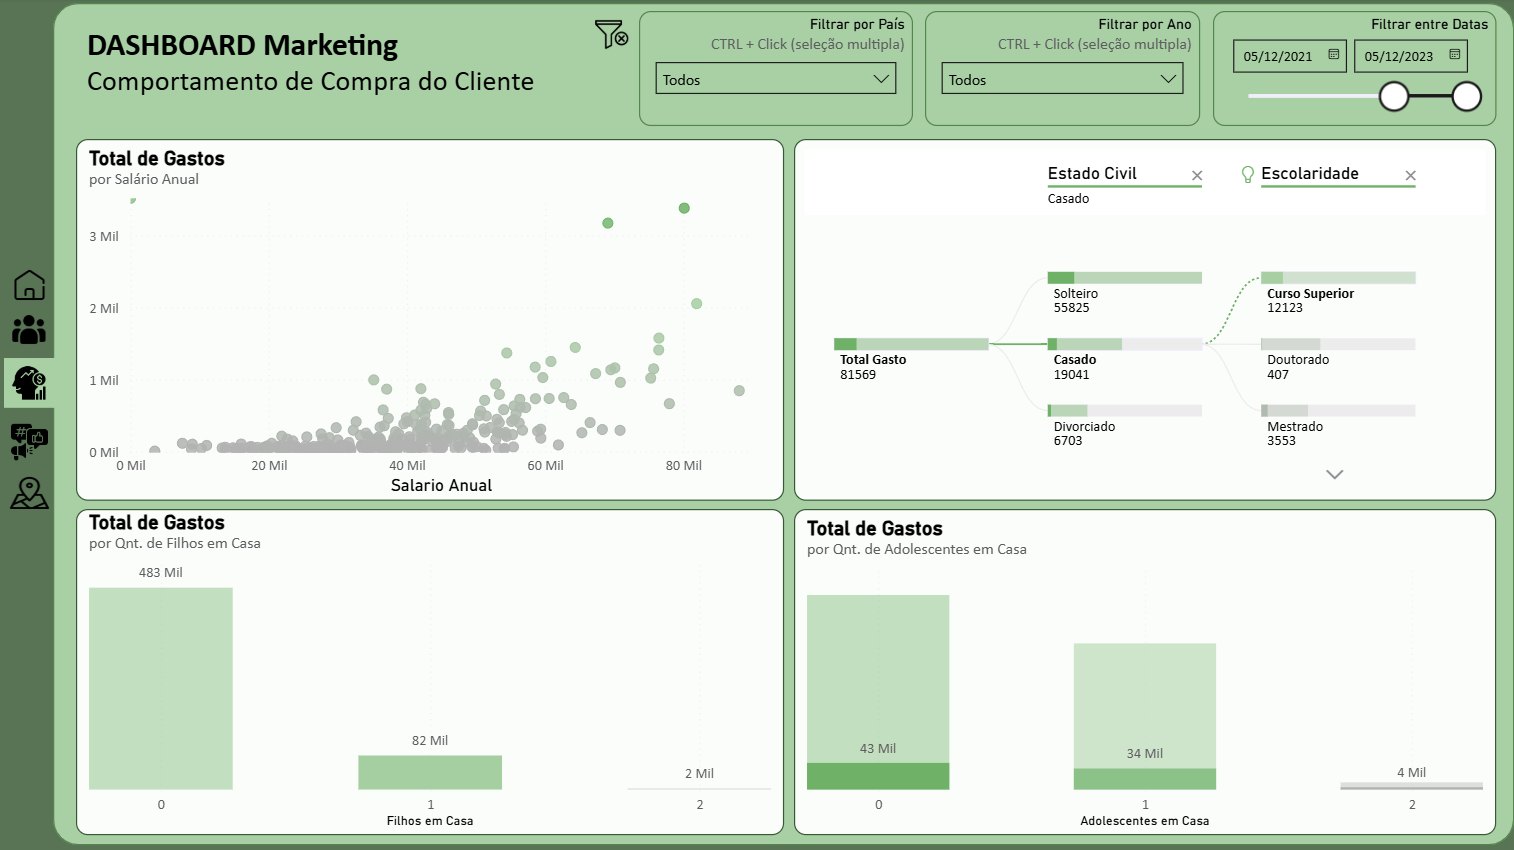

This screenshot's page, from the dashboard's own definition file:
{"tool":"powerbi","page":{"name":"Visão Comportamento","canvas":[1280,720],"ordinal":2},"visuals":[{"type":"group","id":"g1","title":"Grupo 1","box":[48.2,4.5,1231.8,710],"z":0},{"type":"shape","box":[48.2,4.5,1231.8,710],"z":0,"group":"g1"},{"type":"textbox","box":[71.7,17.6,390,73.6],"z":1000,"group":"g1"},{"type":"scatterChart","title":"Total de Gastos","fields":{"X":["Dados_Marketing.Salario Anual"],"Y":["Dados_Marketing.Total_Gasto"]},"box":[67.3,119.1,597.3,305.5],"z":1000},{"type":"slicer","title":"Filtrar por Ano","fields":{"Values":["Dados_Marketing.Data Cadastro.Variation.Hierarquia de datas.Ano"]},"box":[783.7,10.9,231.8,97.3],"z":2000,"group":"g1"},{"type":"clusteredColumnChart","title":"Total de Gastos","fields":{"Category":["Dados_Marketing.Filhos em Casa"],"Y":["Dados_Marketing.Total_Gasto"]},"box":[67.3,430.9,597.3,274.5],"z":2000},{"type":"slicer","title":"Filtrar por País","fields":{"Values":["Dados_Marketing.Pais"]},"box":[541.8,10.9,230.9,97.3],"z":3000,"group":"g1"},{"type":"image","box":[7,398.9,42.7,37.3],"z":3000,"group":"g3"},{"type":"clusteredColumnChart","title":"Total de Gastos","fields":{"Y":["Dados_Marketing.Total_Gasto"],"Category":["Dados_Marketing.Adolescentes em Casa"]},"box":[672.7,430.9,591.8,274.5],"z":3000},{"type":"slicer","title":"Filtrar entre Datas","fields":{"Values":["Dados_Marketing.Data Cadastro"]},"box":[1026.4,10.9,239.1,97.3],"z":4000,"group":"g1"},{"type":"decompositionTreeVisual","fields":{"Analyze":["Dados_Marketing.Total_Gasto"],"ExplainBy":["Dados_Marketing.Estado Civil","Dados_Marketing.Escolaridade"]},"box":[672.7,119.1,591.8,305.5],"z":4000},{"type":"image","box":[7,260.7,42.7,38.2],"z":4000,"group":"g3"},{"type":"group","id":"g2","title":"Grupo 5","box":[7,223.6,42.7,212.7],"z":5000},{"type":"group","id":"g3","title":"Grupo 2","box":[7,260.7,42.7,175.5],"z":5000,"group":"g2"},{"type":"image","box":[7,303.4,42.7,41.8],"z":5000,"group":"g3"},{"type":"image","box":[498.9,11.9,39.8,37.8],"z":6000},{"type":"image","box":[7,223.6,42.6,37.2],"z":6000,"group":"g2"},{"type":"image","box":[7,349.8,42.7,48.2],"z":6000,"group":"g3"}]}

Visuals, with their boxes in screenshot pixels (x1, y1, x2, y2):
"Grupo 1" group: pyautogui.locateOnScreen(52, 5, 1489, 833)
shape: pyautogui.locateOnScreen(52, 5, 1489, 833)
textbox: pyautogui.locateOnScreen(80, 21, 535, 106)
"Total de Gastos" scatterChart: pyautogui.locateOnScreen(75, 139, 771, 495)
"Filtrar por Ano" slicer: pyautogui.locateOnScreen(910, 13, 1181, 126)
"Total de Gastos" clusteredColumnChart: pyautogui.locateOnScreen(75, 503, 771, 823)
"Filtrar por País" slicer: pyautogui.locateOnScreen(628, 13, 897, 126)
image: pyautogui.locateOnScreen(4, 465, 54, 509)
"Total de Gastos" clusteredColumnChart: pyautogui.locateOnScreen(781, 503, 1471, 823)
"Filtrar entre Datas" slicer: pyautogui.locateOnScreen(1193, 13, 1472, 126)
decompositionTreeVisual - Dados_Marketing.Total_Gasto x Dados_Marketing.Estado Civil: pyautogui.locateOnScreen(781, 139, 1471, 495)
image: pyautogui.locateOnScreen(4, 304, 54, 349)
"Grupo 5" group: pyautogui.locateOnScreen(4, 261, 54, 509)
"Grupo 2" group: pyautogui.locateOnScreen(4, 304, 54, 509)
image: pyautogui.locateOnScreen(4, 354, 54, 403)
image: pyautogui.locateOnScreen(578, 14, 624, 58)
image: pyautogui.locateOnScreen(4, 261, 54, 304)
image: pyautogui.locateOnScreen(4, 408, 54, 464)
